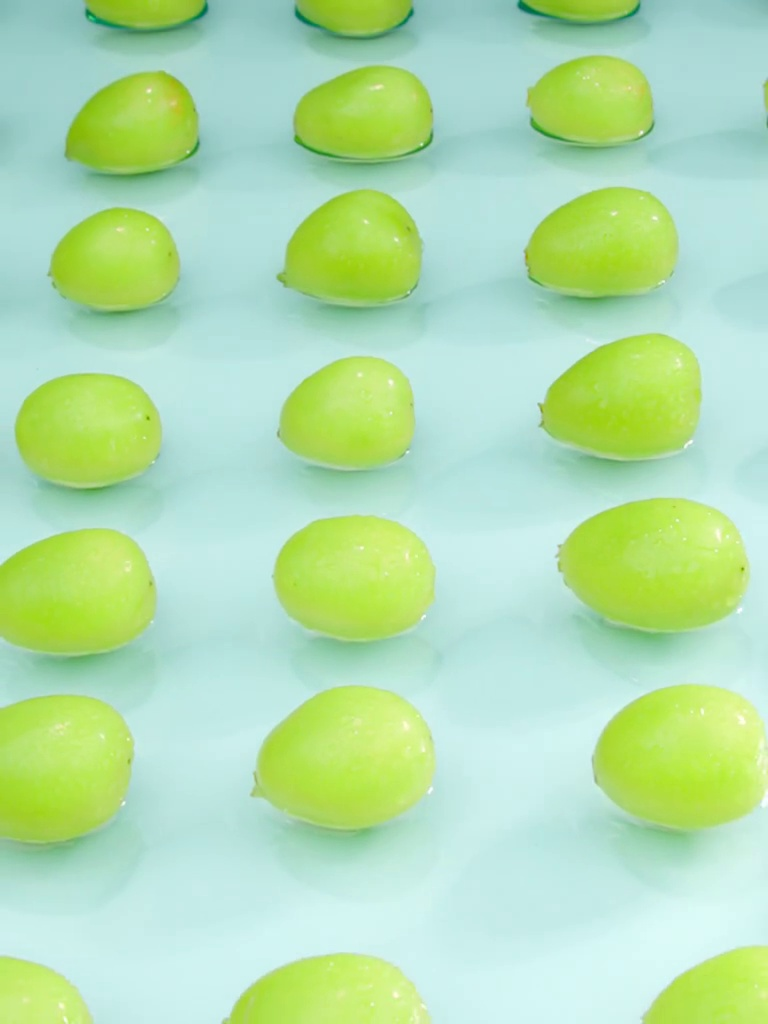grape: (272, 500, 438, 642)
